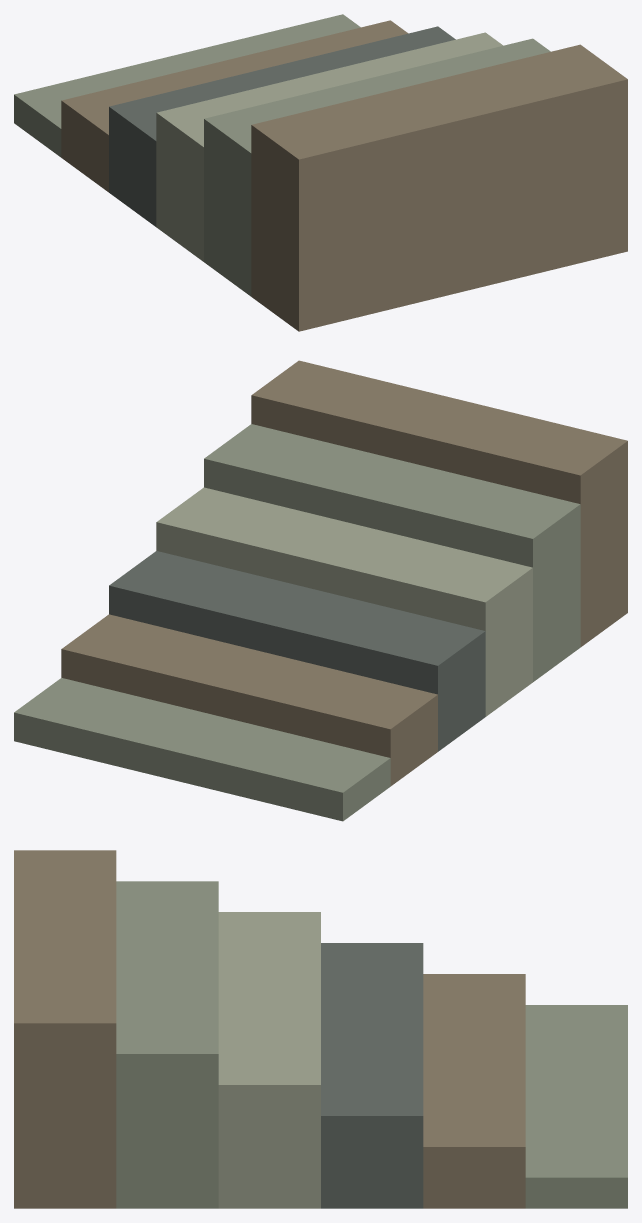
Rendered from TW_RUIN_STAIRS_ASCENT_A_LOD0.glb.
3 views of the same model, one above another, from view 1: azimuth 30°, elevation 25°; view 2: azimuth 150°, elevation 25°; view 3: azimuth 270°, elevation 25° (orthographic). The views are drawn at different scales.
Visible parts, largest first — view 1: TW_RUIN_STAIRS_ASCENT_A; view 2: TW_RUIN_STAIRS_ASCENT_A; view 3: TW_RUIN_STAIRS_ASCENT_A.
Boxes of the visible parts, x1,y1,x2,y2 form: TW_RUIN_STAIRS_ASCENT_A: [14, 14, 627, 331]; TW_RUIN_STAIRS_ASCENT_A: [14, 360, 627, 821]; TW_RUIN_STAIRS_ASCENT_A: [14, 850, 627, 1208].
Size of the model in its own units: 2 by 1 by 3.
